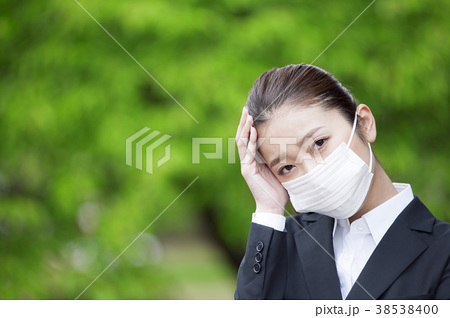mask: (282, 146, 371, 216)
